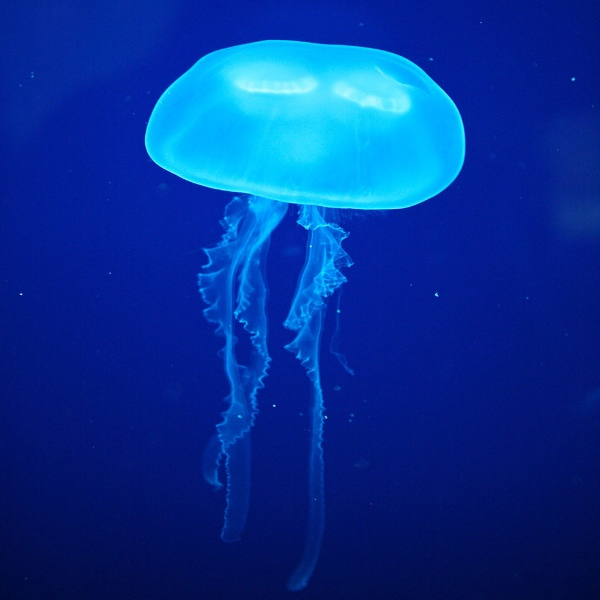Jellyfish: (144, 40, 465, 591)
